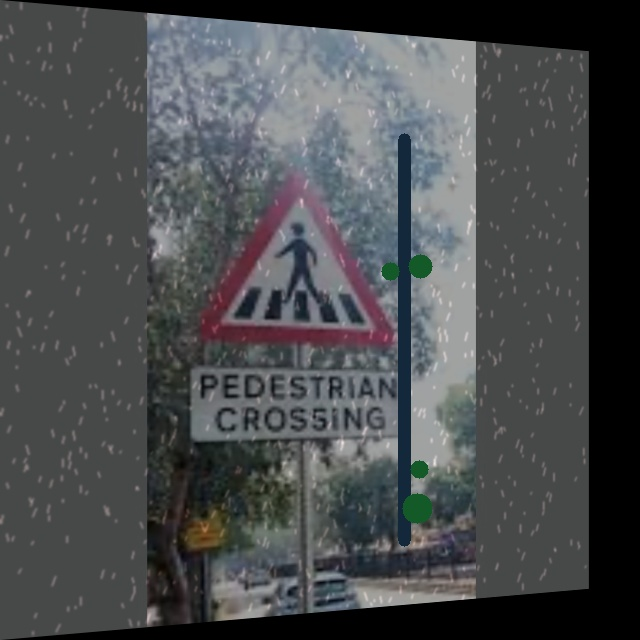Pedestrian_Crossing: (203, 163, 403, 343)
